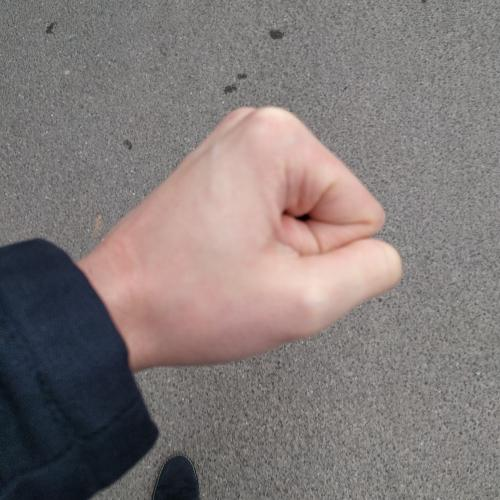rock: (96, 96, 408, 372)
